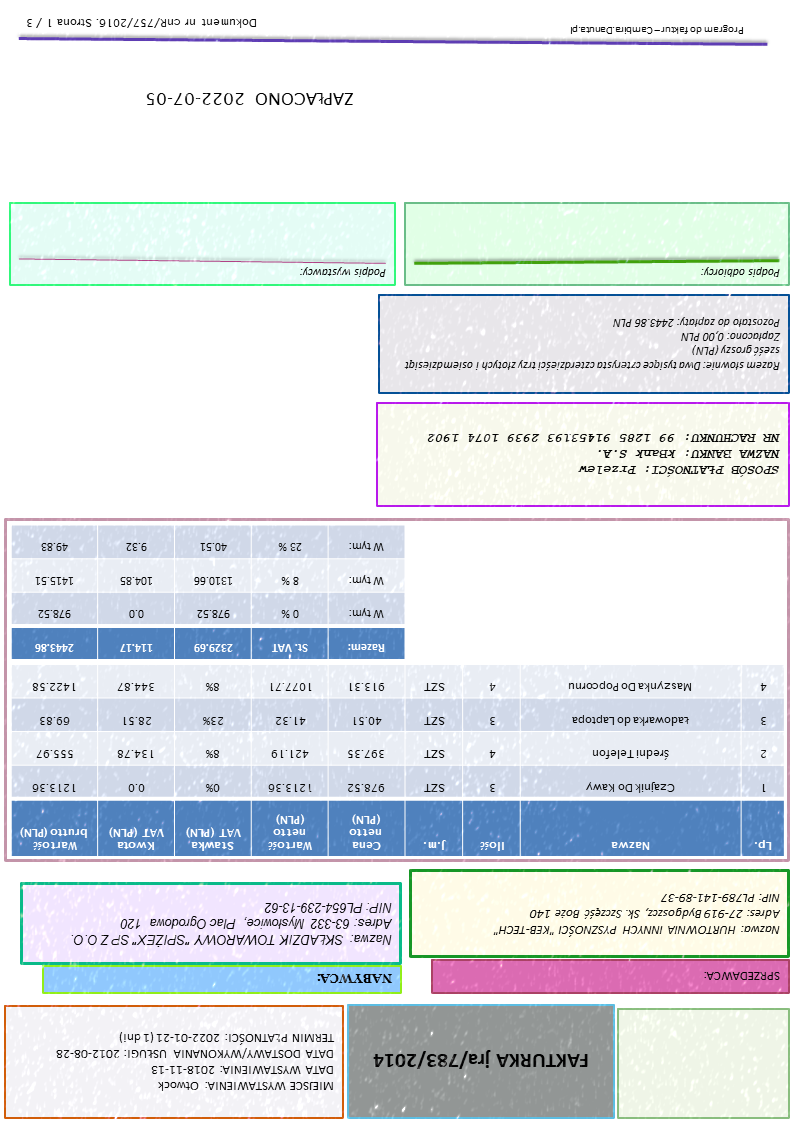Table: (11, 664, 786, 859), (12, 525, 406, 662)
TextBox: (402, 314, 783, 375), (52, 1029, 337, 1096), (426, 428, 781, 481), (70, 896, 396, 951), (492, 887, 783, 940), (370, 1049, 593, 1073), (146, 89, 357, 111), (24, 15, 259, 32), (567, 23, 747, 40), (299, 263, 390, 282), (703, 967, 785, 986), (700, 264, 782, 283), (315, 970, 396, 988)
